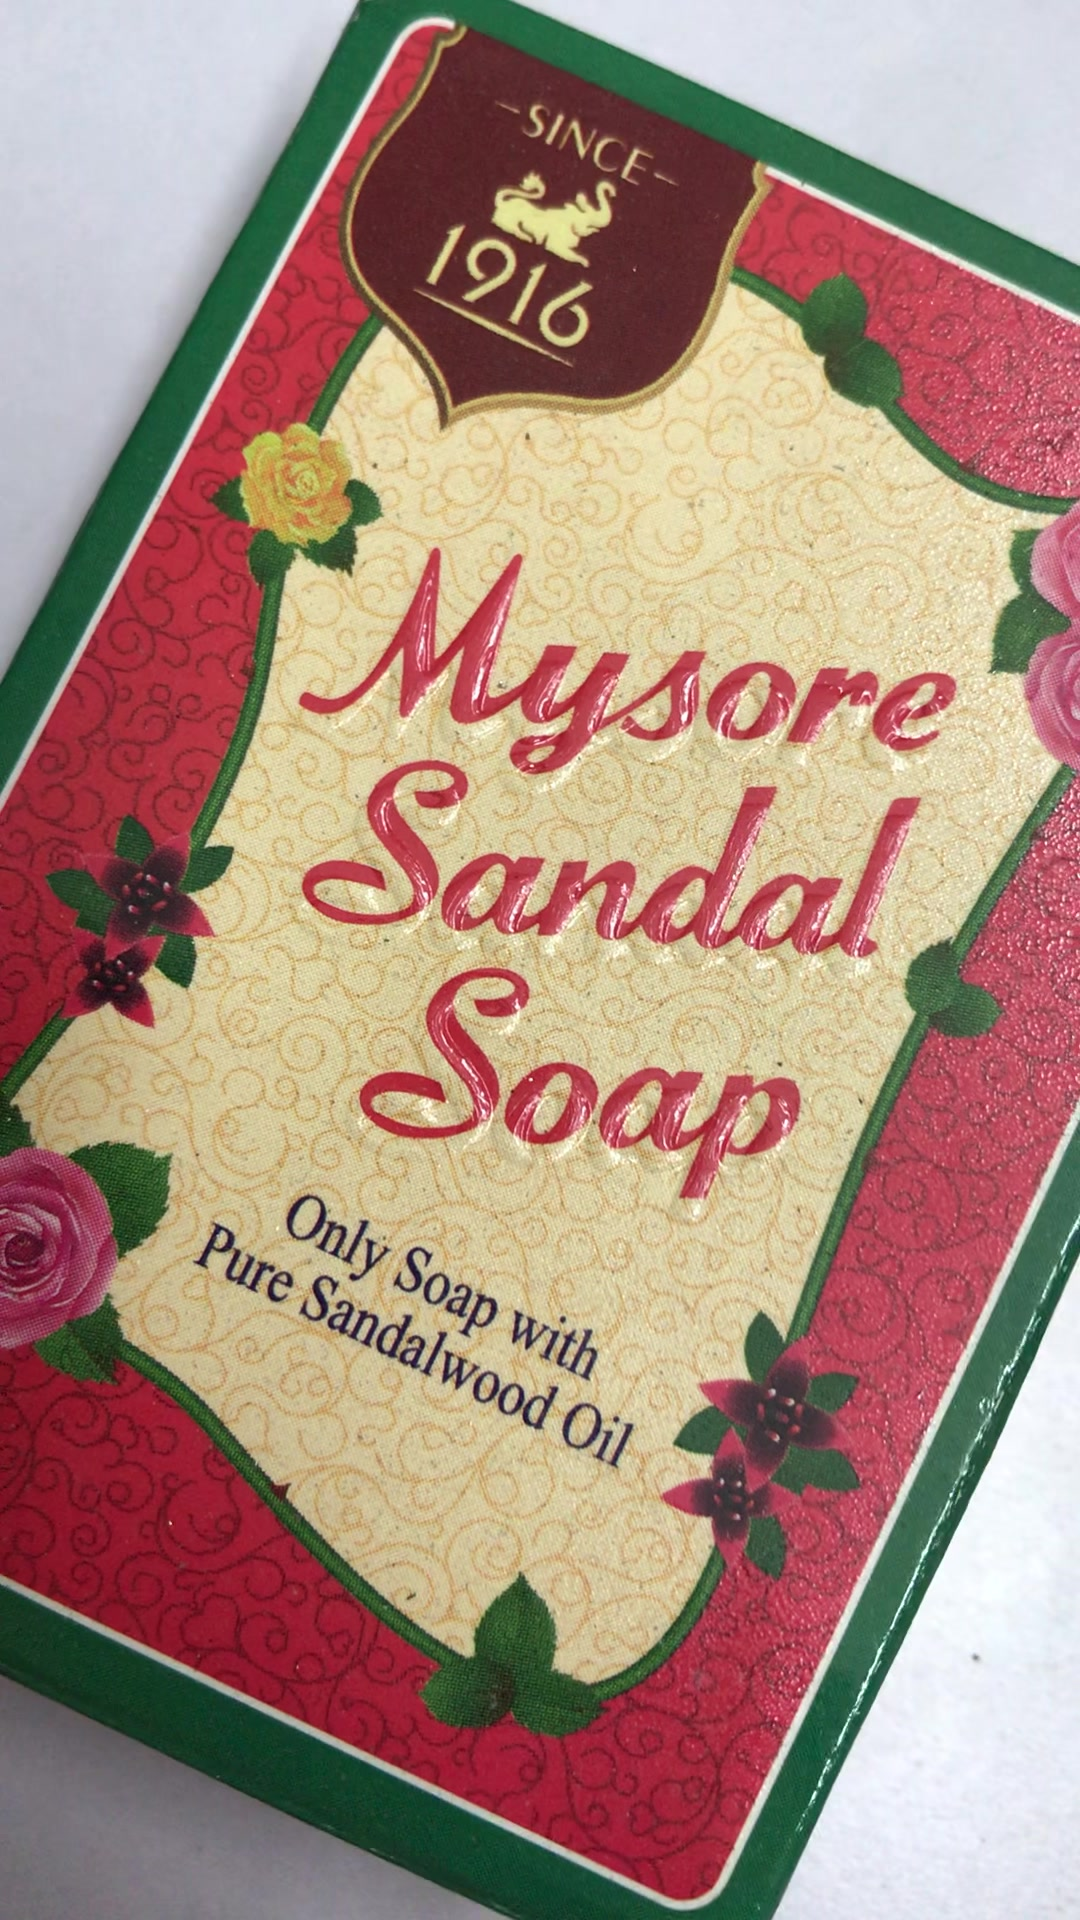mysore sandal soap: (15, 1, 1073, 1913)
